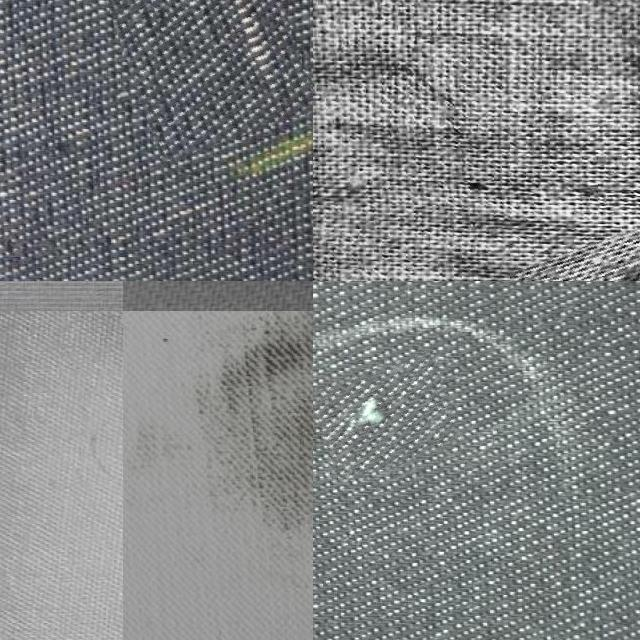Hole: (123, 310, 313, 619)
Thread_other: (105, 0, 303, 152), (314, 358, 457, 474)
